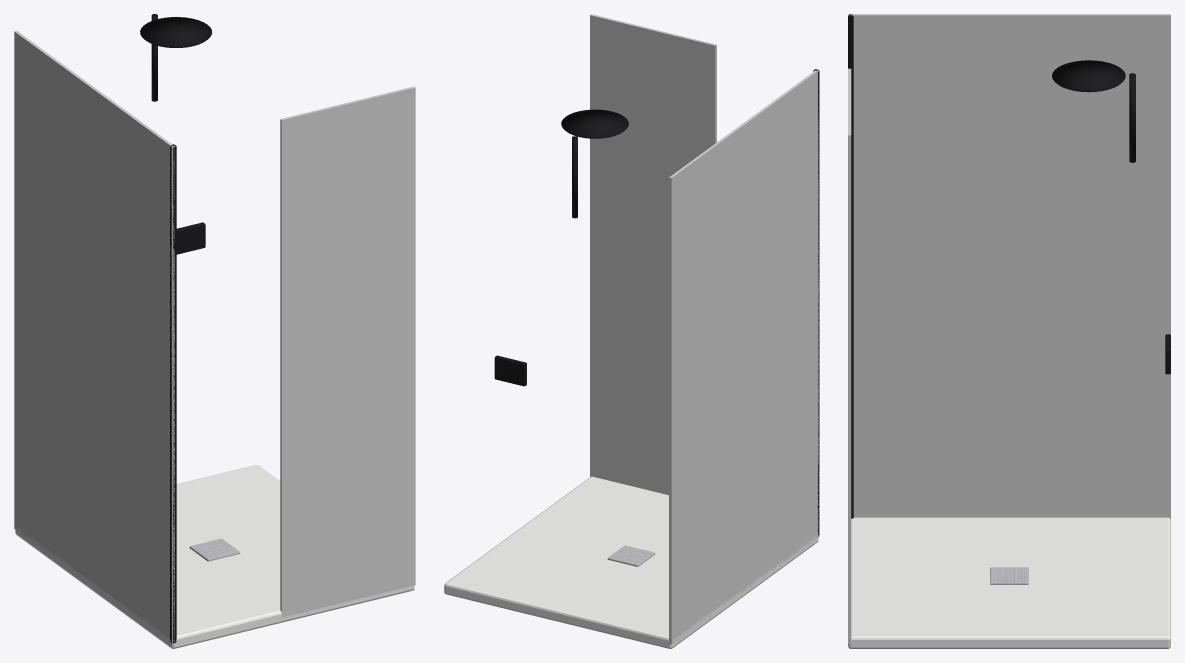
The model's file is ensuite_shower.glb.
The picture shows the model from 3 angles, left to right: view 1: azimuth 30°, elevation 25°; view 2: azimuth 150°, elevation 25°; view 3: azimuth 270°, elevation 25°; orthographic projection. The views are drawn at different scales.
Parts seen in each view (by area): view 1: ensuite_shower; view 2: ensuite_shower; view 3: ensuite_shower.
Boxes of the visible parts, x1=… form: ensuite_shower: x1=14, y1=14, x2=415, y2=648; ensuite_shower: x1=444, y1=14, x2=819, y2=648; ensuite_shower: x1=848, y1=14, x2=1170, y2=648.
Size of the model in its own units: 1.05 by 2.08 by 1.18.
Materials: 4 (2 with a texture image).
